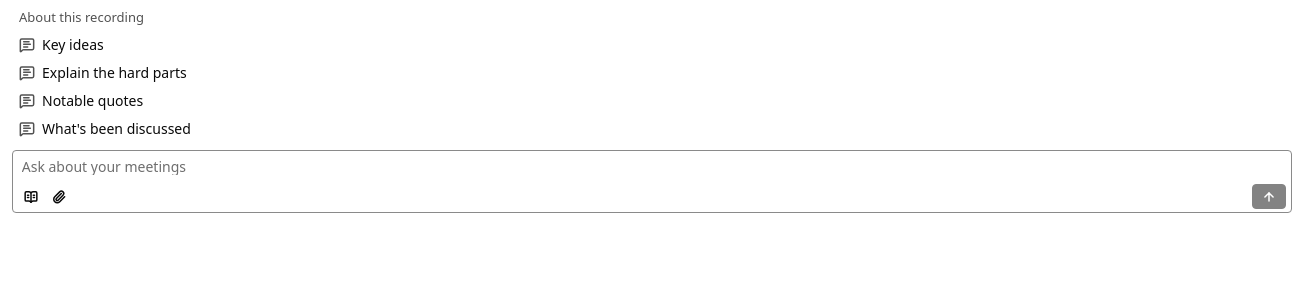
Test: attachment chips › the paperclip opens the picker and the chips appear with kind, size and pages
Step 1. Click the button named "Attach files" → [59, 197], box [46,184,71,209]
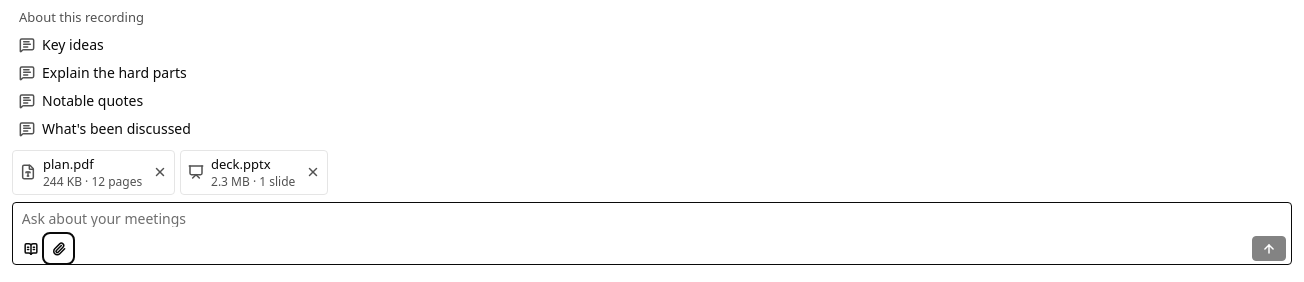
Now the list item "plan.pdf 244 KB · 12 pages" is shown, box [12,150,175,194]
Now the list item "deck.pptx 2.3 MB · 1 slide" is shown, box [180,150,328,194]
